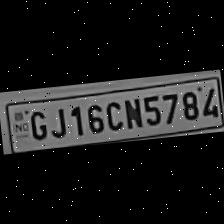1: (65, 102, 86, 136)
4: (197, 82, 222, 120)
5: (138, 90, 162, 128)
6: (82, 100, 105, 134)
7: (158, 89, 180, 125)
8: (177, 88, 200, 122)
C: (102, 97, 124, 132)
G: (25, 108, 49, 142)
J: (46, 104, 69, 140)
N: (121, 95, 143, 131)
